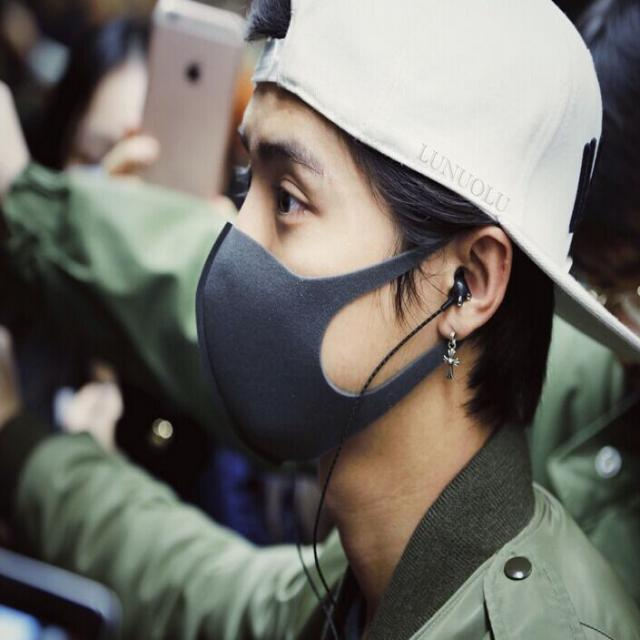mask: (196, 53, 410, 466)
